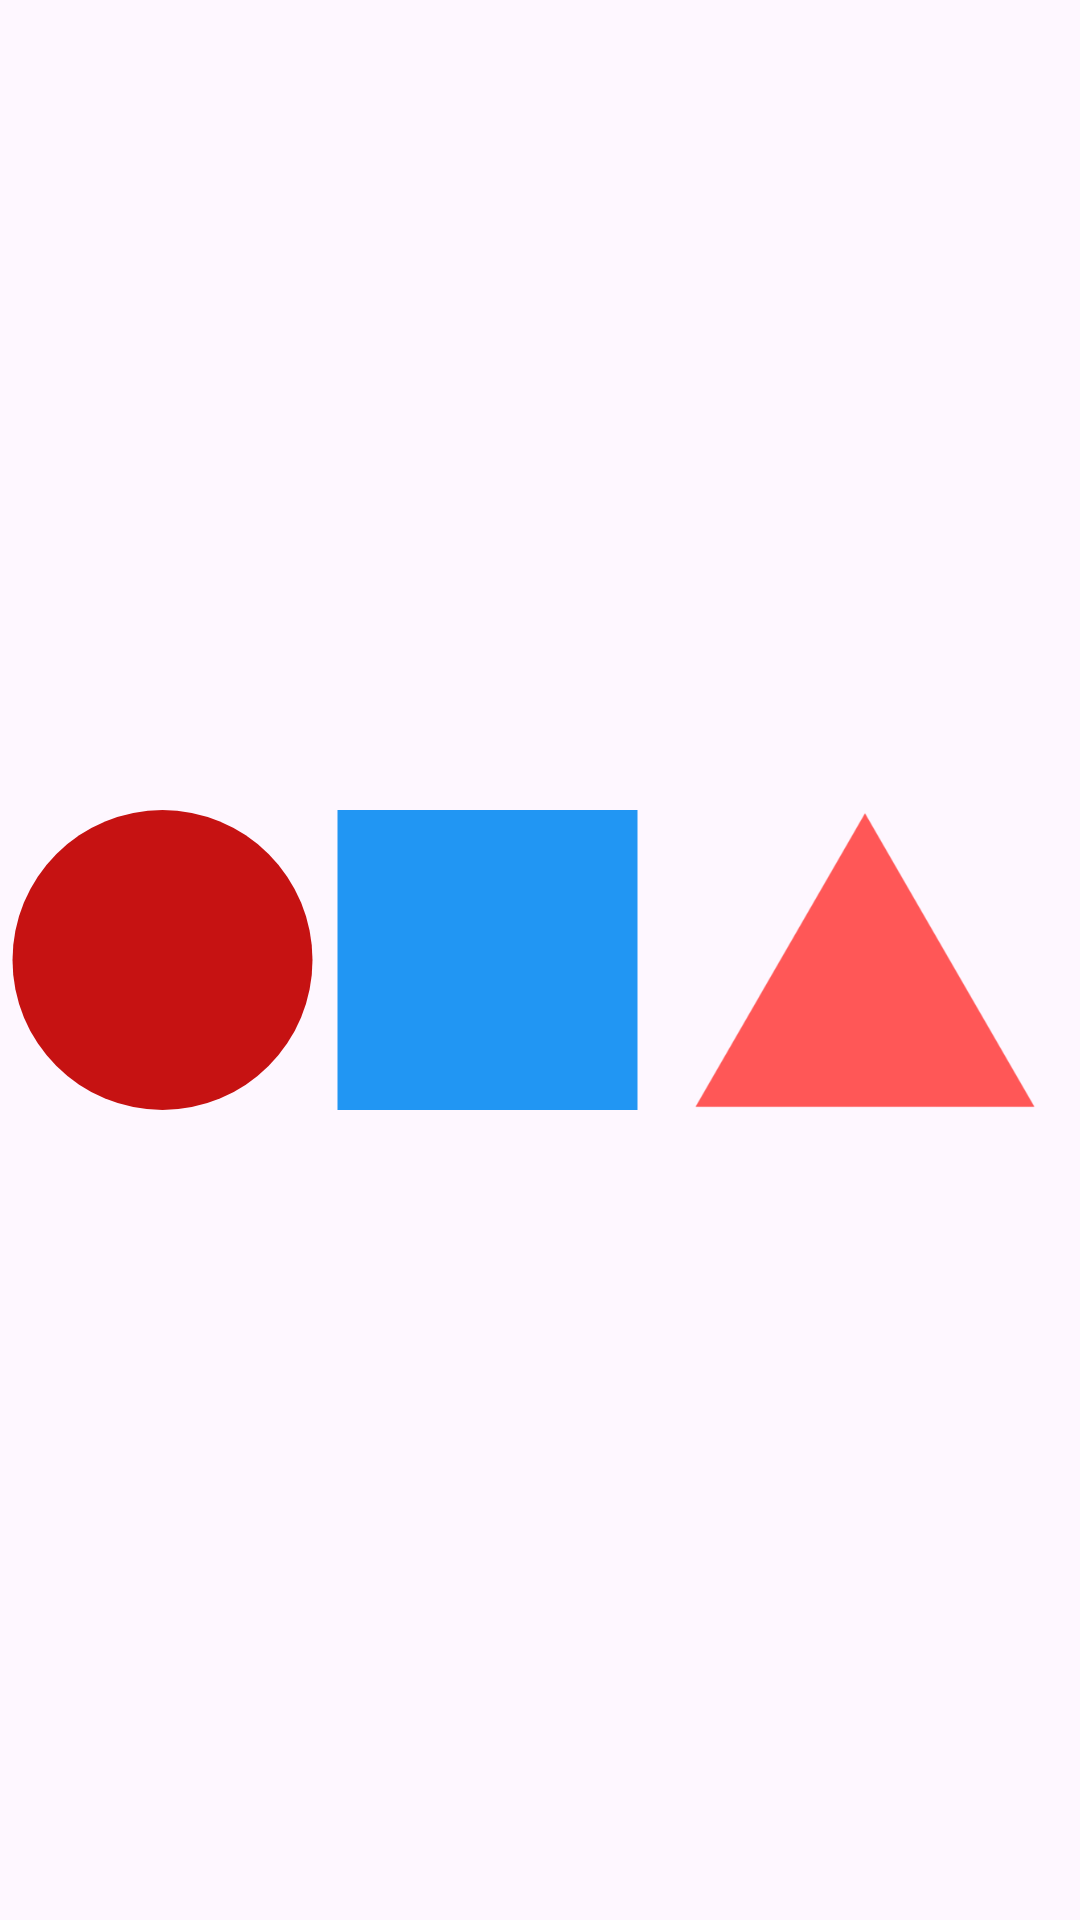

Icon click points for this 1080px×1920px phone screenshot, format (x=x, y=y):
circle: (x=162, y=960)
square: (x=487, y=960)
triangulo: (x=865, y=960)
